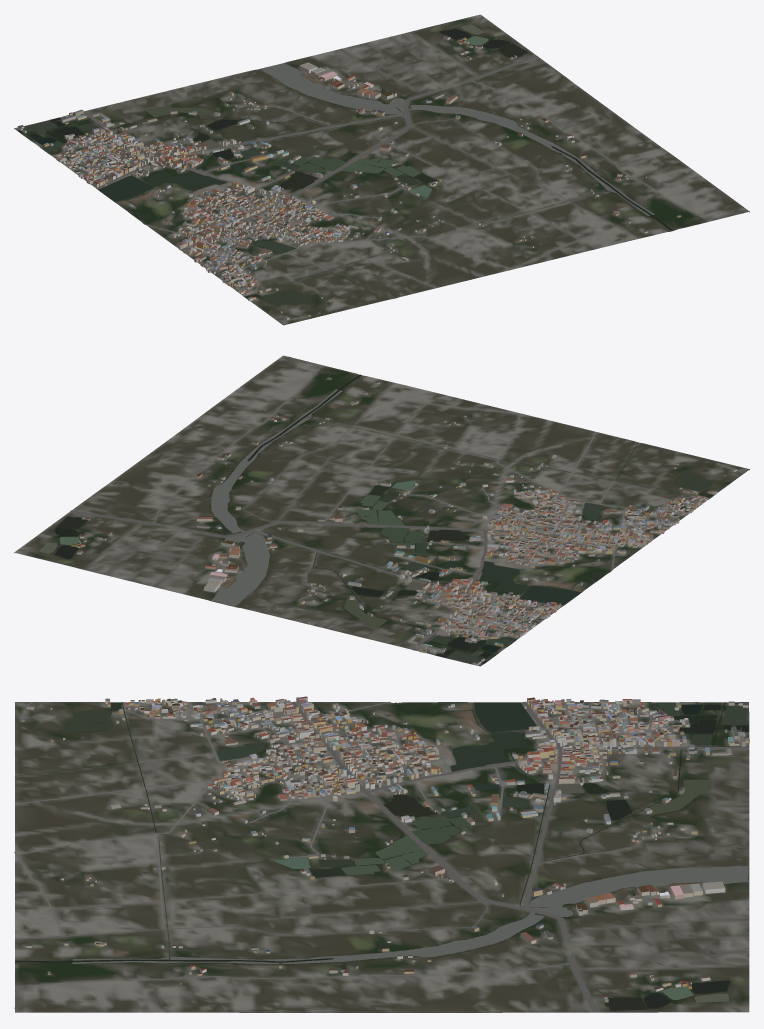
The picture shows the model from 3 angles, top to bottom: view 1: azimuth 30°, elevation 25°; view 2: azimuth 150°, elevation 25°; view 3: azimuth 270°, elevation 25°; orthographic projection. The views are drawn at different scales.
Parts seen in each view (by area): view 1: ground, buildings, water, roads; view 2: ground, buildings, water, roads; view 3: ground, buildings, water, roads.
Boxes of the visible parts, box(x1,y1,x2,y2) form: ground: box(14, 14, 749, 325); buildings: box(17, 35, 680, 319); water: box(18, 24, 672, 304); roads: box(61, 32, 748, 321); ground: box(14, 355, 749, 666); buildings: box(71, 377, 736, 665); water: box(38, 374, 713, 663); roads: box(70, 356, 743, 649); ground: box(15, 702, 749, 1012); buildings: box(22, 696, 749, 1002); water: box(15, 702, 748, 1010); roads: box(14, 701, 749, 1012).
Bounding box in the file's own units: 1410 × 25.02 × 1405.
